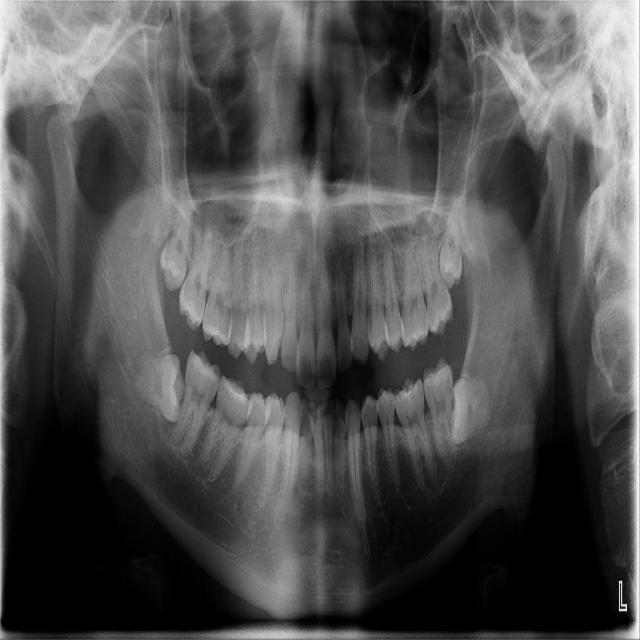3M ESPE Implant: (157, 165, 196, 292)
73: (616, 591, 620, 597)
BioHorizons Implant: (410, 219, 458, 339)
BioLife Implant: (439, 181, 463, 290)
Biomet 3i Implant: (451, 375, 492, 445)
Blue Sky Bio Implant: (422, 357, 455, 461)
Caries: (175, 193, 217, 333)
Implant: (164, 348, 227, 463)
Keystone Dental Implant: (129, 349, 190, 422)
